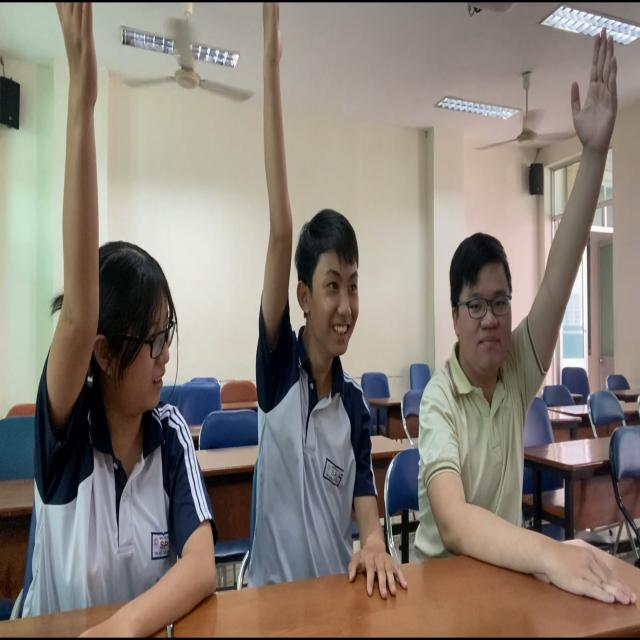raise_hand: (8, 1, 223, 634), (408, 27, 628, 597)
